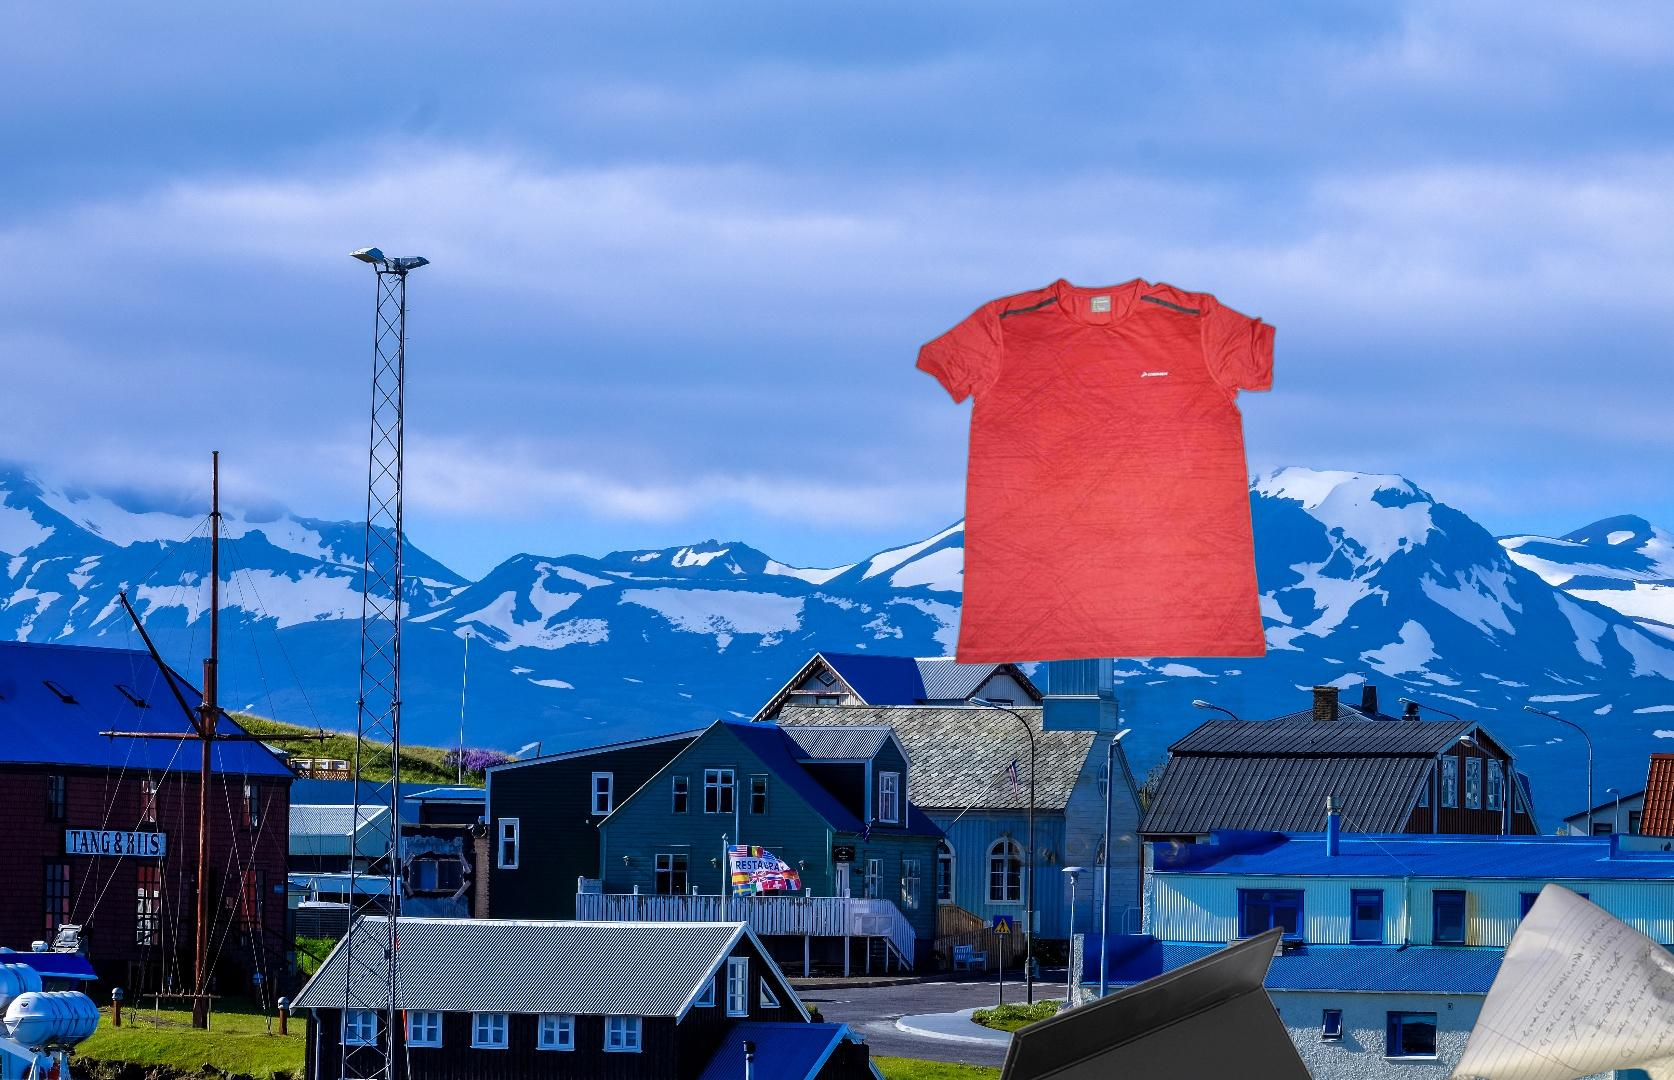battery: (986, 672, 1245, 866)
clothes: (911, 273, 1280, 670)
paper: (1443, 879, 1674, 1080)
trashbox-cardboard: (990, 919, 1614, 1080)
